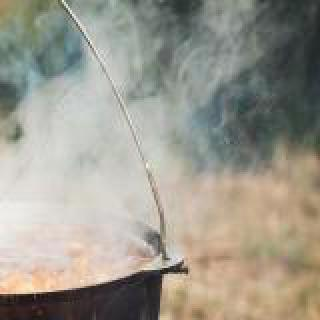fire: (0, 0, 289, 232)
